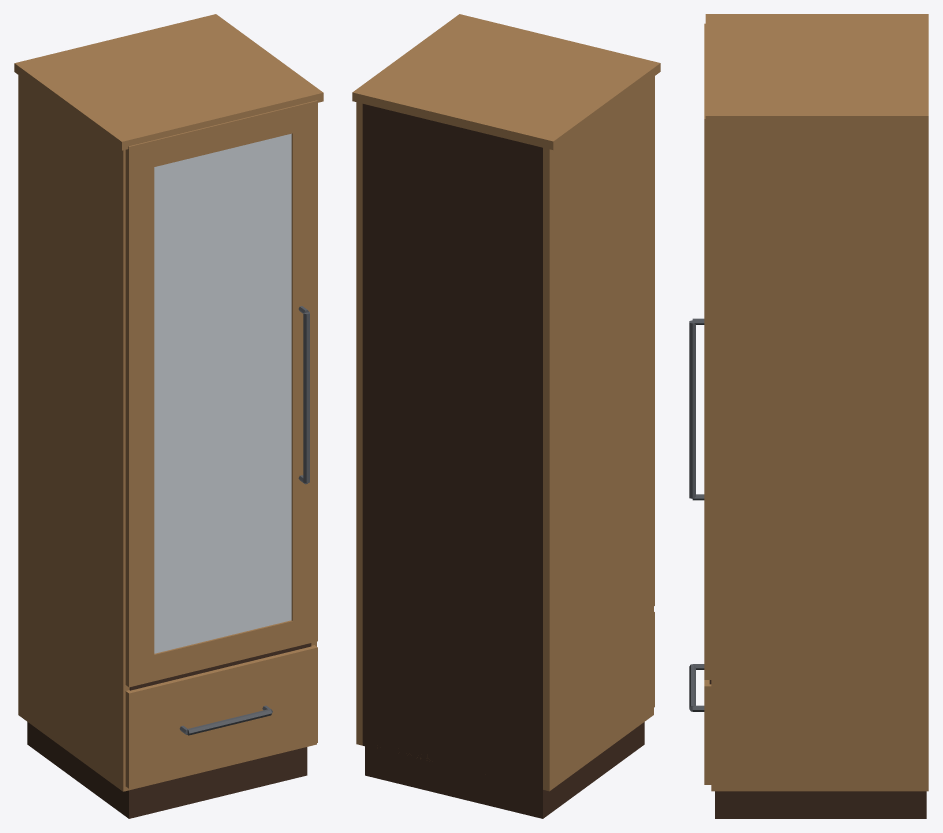
File: FN_Wardrobe_Single.glb
The picture shows the model from 3 angles, left to right: view 1: azimuth 30°, elevation 25°; view 2: azimuth 150°, elevation 25°; view 3: azimuth 270°, elevation 25°; orthographic projection. The views are drawn at different scales.
Visible parts, largest first — view 1: FN_Wardrobe_Single; view 2: FN_Wardrobe_Single; view 3: FN_Wardrobe_Single.
Boxes of the visible parts, box(x1,y1,x2,y2) form: FN_Wardrobe_Single: box(14, 14, 323, 818); FN_Wardrobe_Single: box(352, 14, 660, 818); FN_Wardrobe_Single: box(689, 14, 928, 818).
Size of the model in its own units: 0.624 by 2.02 by 0.619.
Materials: 1 (1 with a texture image).
